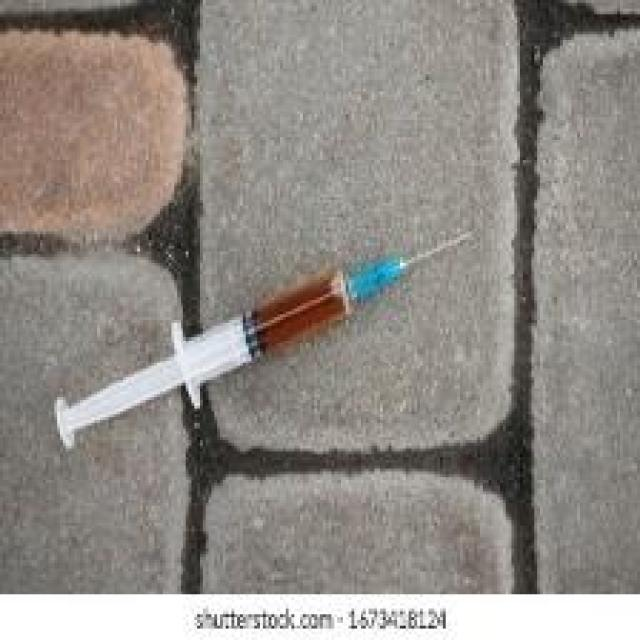syringe: (44, 216, 492, 440)
